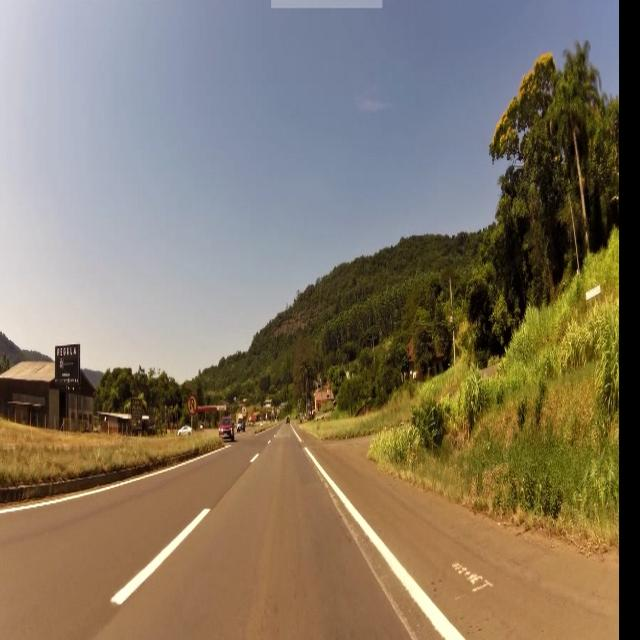R-5a: (189, 395, 197, 416)
